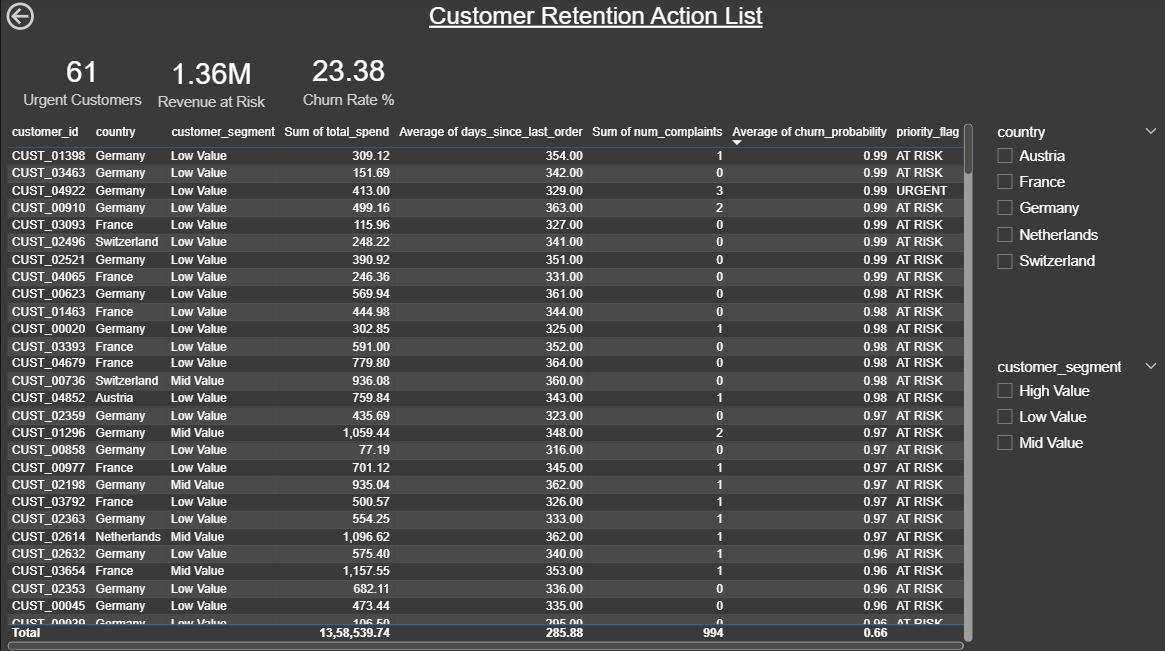

The dashboard page shown, as its layout file describes it:
{"tool":"powerbi","page":{"name":"Page 6","canvas":[1280,720],"ordinal":5},"visuals":[{"type":"textbox","box":[463.8,0,502.2,41.2],"z":0},{"type":"card","fields":{"Values":["fct_churn.Revenue at Risk"]},"box":[149.6,30.2,160.5,122.1],"z":1},{"type":"card","fields":{"Values":["fct_churn.Churn Rate %"]},"box":[310.1,43.9,141.3,89.2],"z":2},{"type":"card","fields":{"Values":["fct_churn.Urgent Customers"]},"box":[13.7,41.2,149.6,96.1],"z":3},{"type":"tableEx","fields":{"Values":["fct_churn.customer_id","fct_churn.country","fct_churn.customer_segment","Sum(fct_churn.total_spend)","Avg(fct_churn.days_since_last_order)","Sum(fct_churn.num_complaints)","Avg(fct_churn.churn_probability)","fct_churn.priority_flag"]},"box":[0,133.1,1070.3,587.3],"z":4},{"type":"actionButton","box":[0,0,100,40],"z":5},{"type":"slicer","fields":{"Values":["fct_churn.country"]},"box":[1079.9,133.1,200.3,194.9],"z":6},{"type":"slicer","fields":{"Values":["fct_churn.customer_segment"]},"box":[1079.9,391.1,200.3,138.6],"z":7}]}

Visuals, with their boxes in screenshot pixels (x1, y1, x2, y2), scaled from the page's 1280x720 canvas onto the 1165x651 screenshot:
textbox: crop(422, 0, 879, 37)
card - fct_churn.Revenue at Risk: crop(136, 27, 282, 138)
card - fct_churn.Churn Rate %: crop(282, 40, 411, 120)
card - fct_churn.Urgent Customers: crop(12, 37, 149, 124)
tableEx - fct_churn.customer_id x fct_churn.country: crop(0, 120, 974, 650)
actionButton: crop(0, 0, 91, 36)
slicer - fct_churn.country: crop(983, 120, 1164, 297)
slicer - fct_churn.customer_segment: crop(983, 354, 1164, 479)
